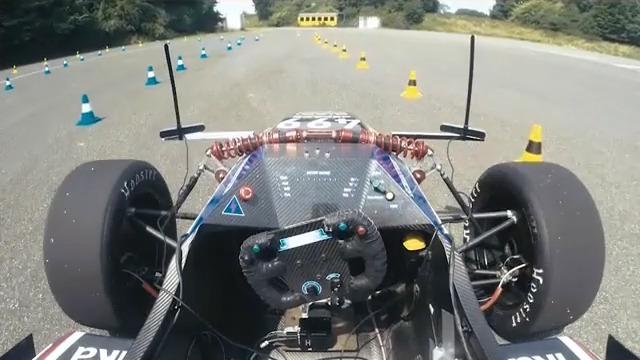blue_cone: (65, 92, 110, 132), (131, 57, 163, 92), (173, 46, 189, 74), (198, 38, 214, 59), (220, 38, 234, 53)
yellow_cone: (501, 118, 559, 169), (396, 63, 431, 100), (326, 30, 354, 58), (352, 49, 376, 81)
